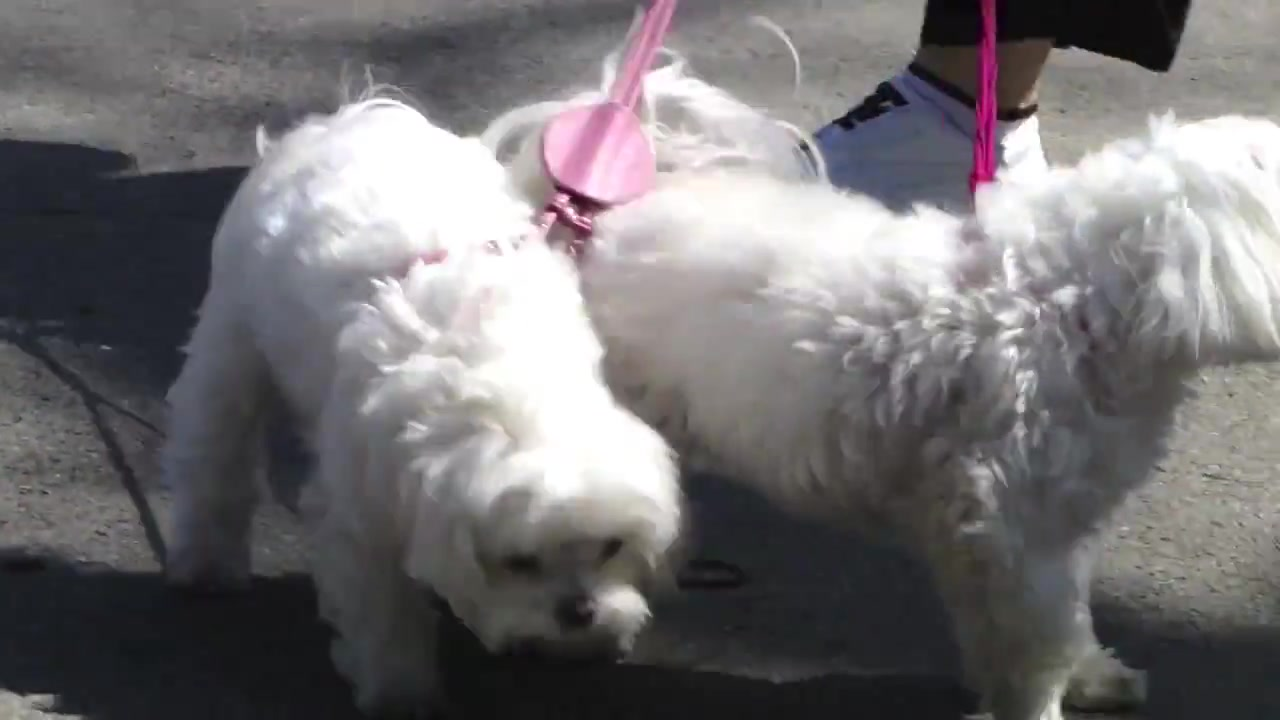dog: (155, 63, 689, 720)
